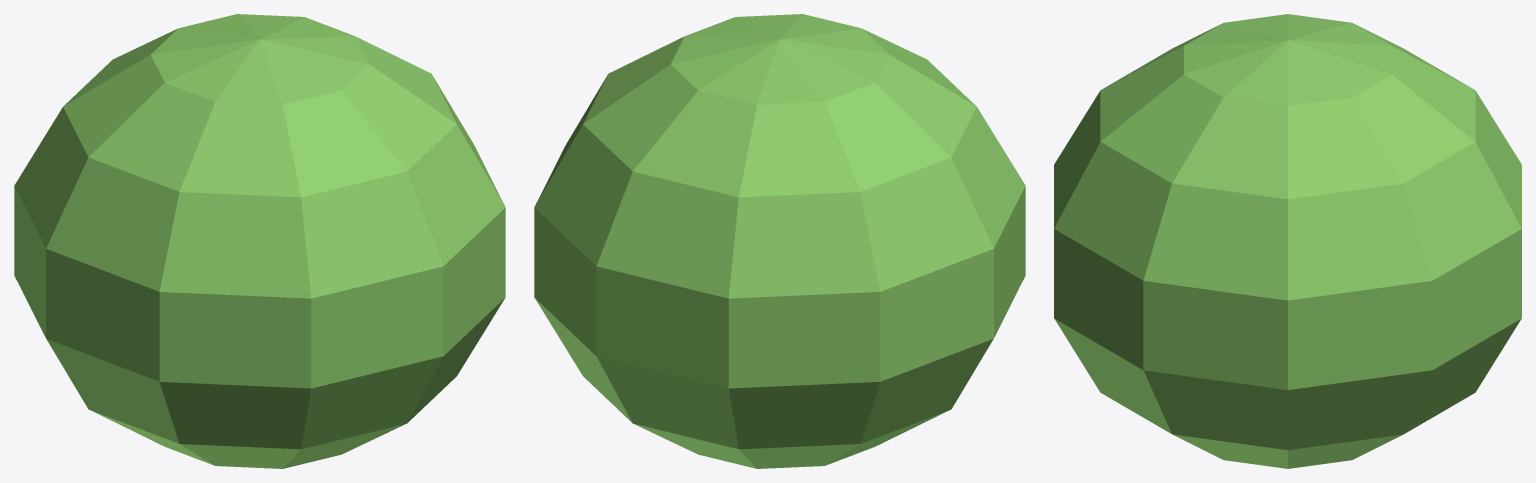
Rendered from market_veggie_cabbage.glb.
3 views of the same model, side by side, from view 1: azimuth 30°, elevation 25°; view 2: azimuth 150°, elevation 25°; view 3: azimuth 270°, elevation 25° (orthographic).
Visible parts, largest first — view 1: veggie_market_veggie_cabbage; view 2: veggie_market_veggie_cabbage; view 3: veggie_market_veggie_cabbage.
Boxes of the visible parts, x1,y1,x2,y2 form: veggie_market_veggie_cabbage: (14,14,505,468); veggie_market_veggie_cabbage: (534,14,1025,468); veggie_market_veggie_cabbage: (1054,14,1521,468).
Bounding box in the file's own units: 0.4875 × 0.44 × 0.4636.
